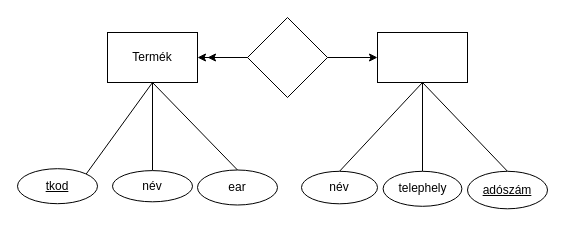
This 565x227 diagram has some shape labels left out. The shapes that lost their labels are listed below. From the top down, each one's centre as x and y in pixels, then its label:
(287,57): T_GY
(422,57): Gyártó
